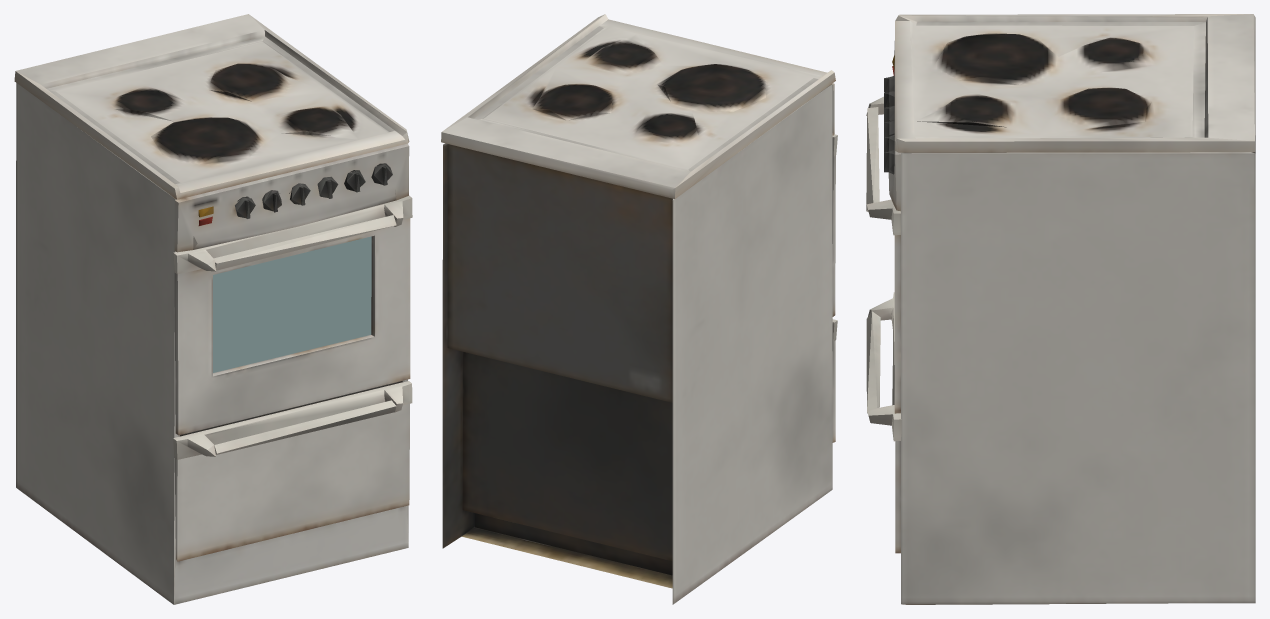
File: electric_stove.fbx
3 views of the same model, side by side, from view 1: azimuth 30°, elevation 25°; view 2: azimuth 150°, elevation 25°; view 3: azimuth 270°, elevation 25° (orthographic). The views are drawn at different scales.
Visible parts, largest first — view 1: electric_stove; view 2: electric_stove; view 3: electric_stove.
Part boxes in pixels (box(x1,y1,x2,y2)): electric_stove: box(14, 14, 412, 604); electric_stove: box(441, 14, 837, 604); electric_stove: box(866, 14, 1255, 604).
Size of the model in its own units: 0.5014 by 0.8534 by 0.6471.
